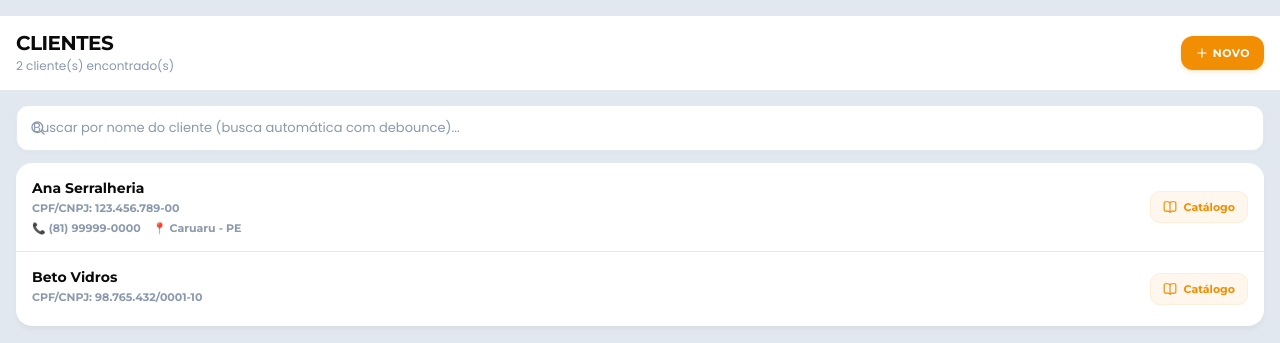
Clientes – listagem › busca com debounce: uma única requisição com o termo final
In the field named "Buscar cliente": (640, 128) [16, 105, 1264, 151], type "beto"
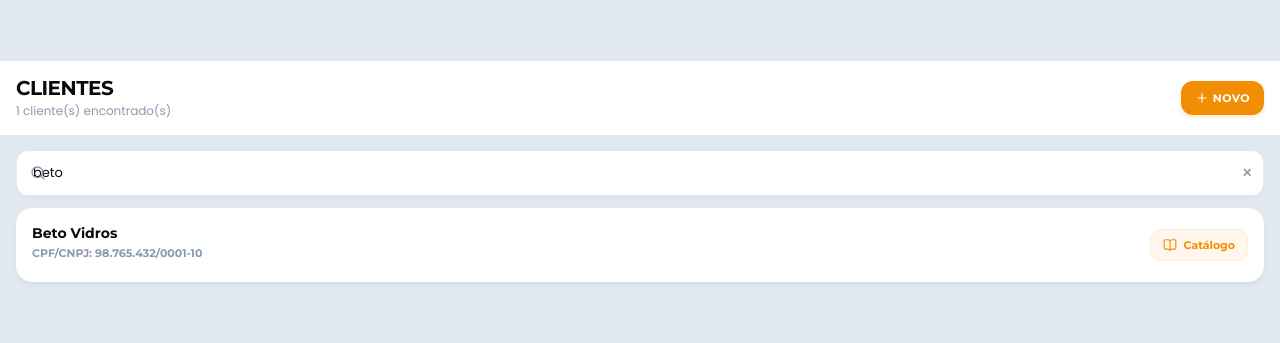
Check: the text "1 cliente(s) encontrado(s)" is shown, box [16, 102, 171, 120]
Check: the button "Ana Serralheria" is gone
